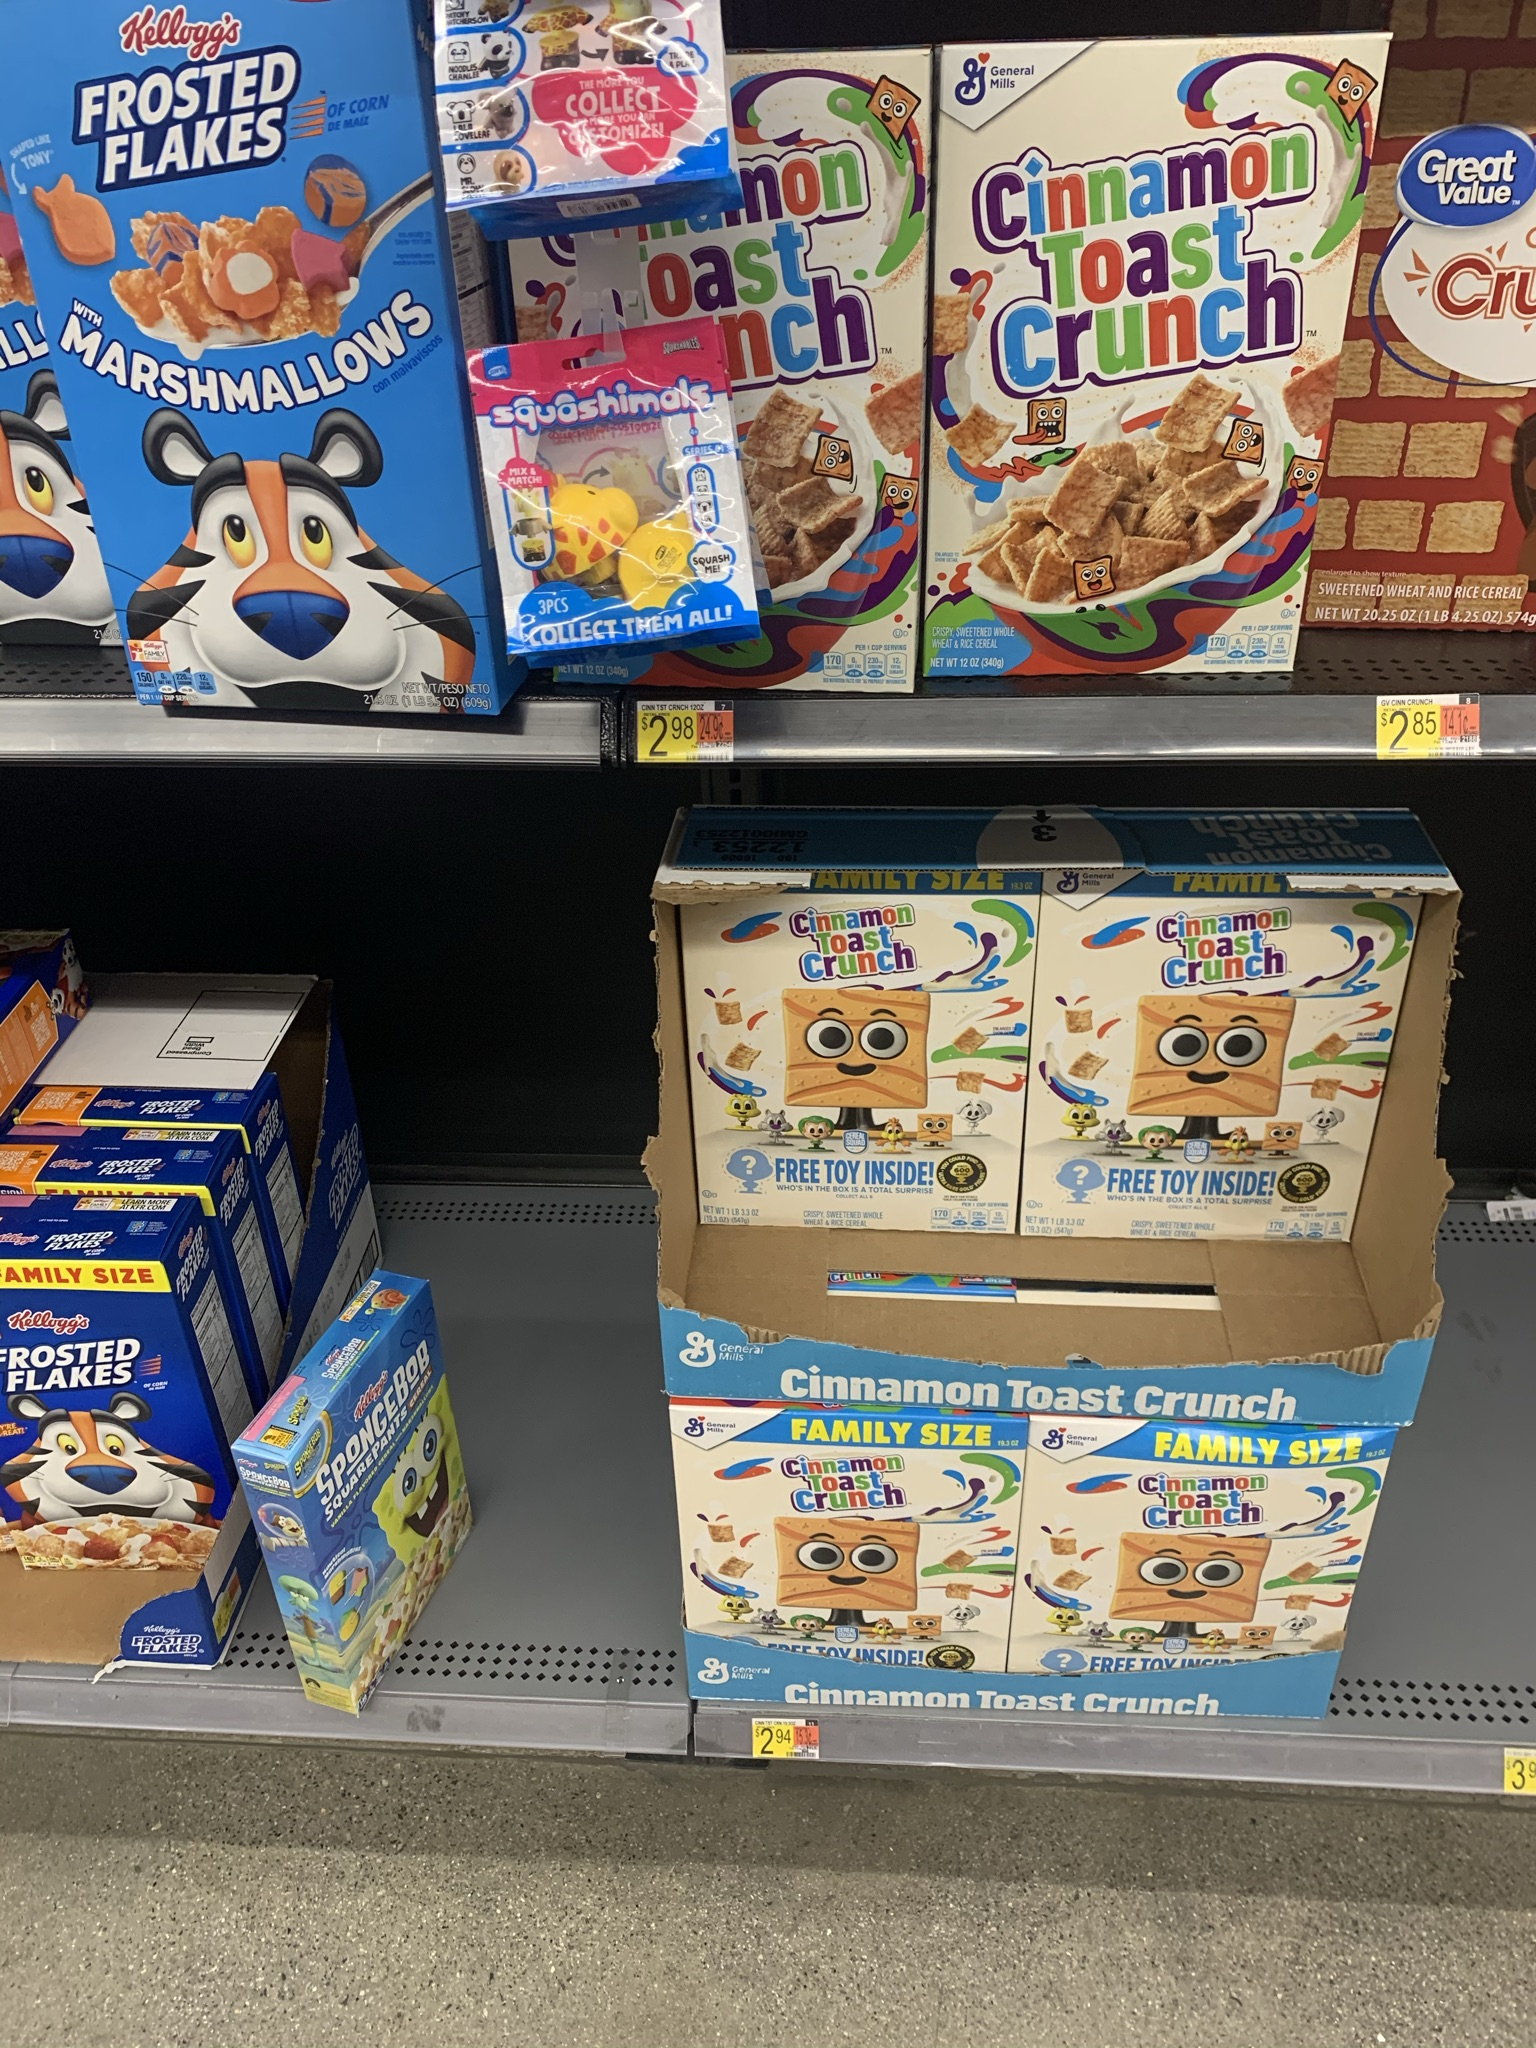Cereal cinnamon toast crunch: (934, 44, 1313, 669), (692, 905, 1033, 1234), (678, 1405, 1033, 1709), (1058, 897, 1375, 1185), (1052, 1419, 1354, 1719)
Cereal kellogs: (18, 2, 494, 719)
Cereal sponge bob: (260, 1450, 503, 1655)
